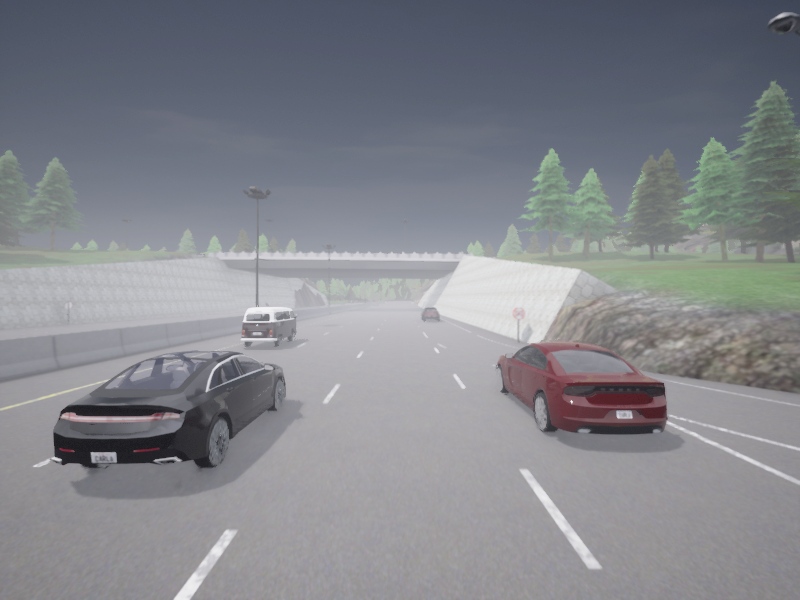vehicle: (51, 350, 285, 468), (497, 341, 667, 434), (241, 307, 297, 346), (421, 307, 438, 320)
